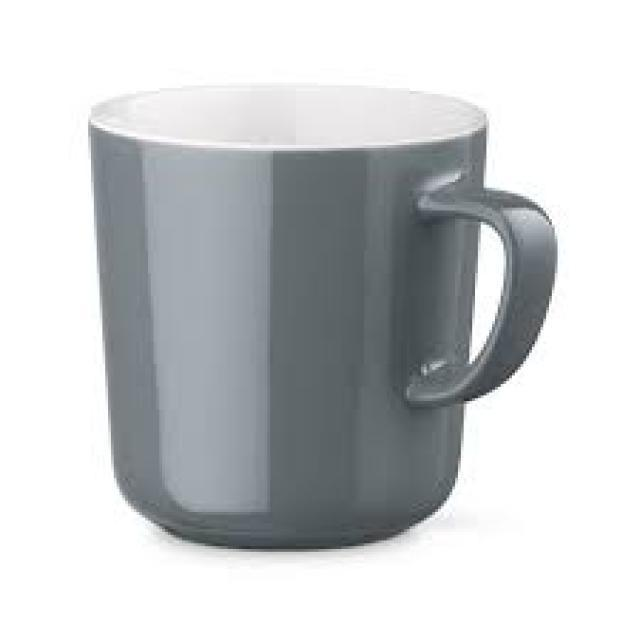taza: (87, 77, 558, 552)
